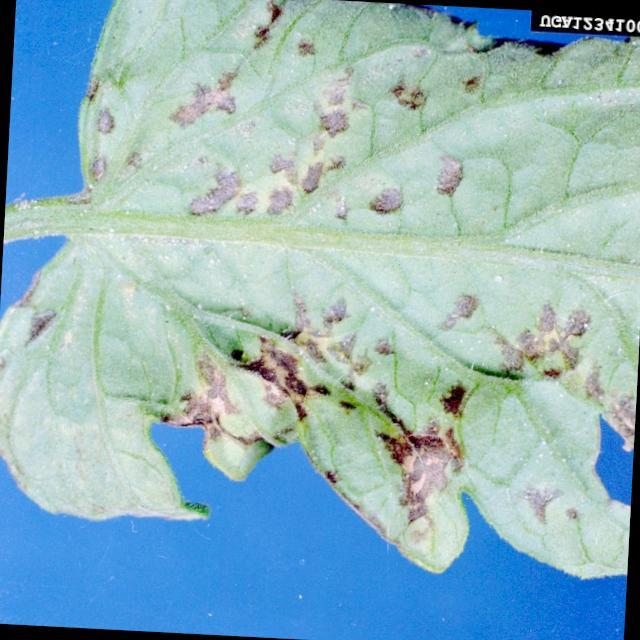Tomato bacterial spot leaf: (0, 0, 640, 590)
